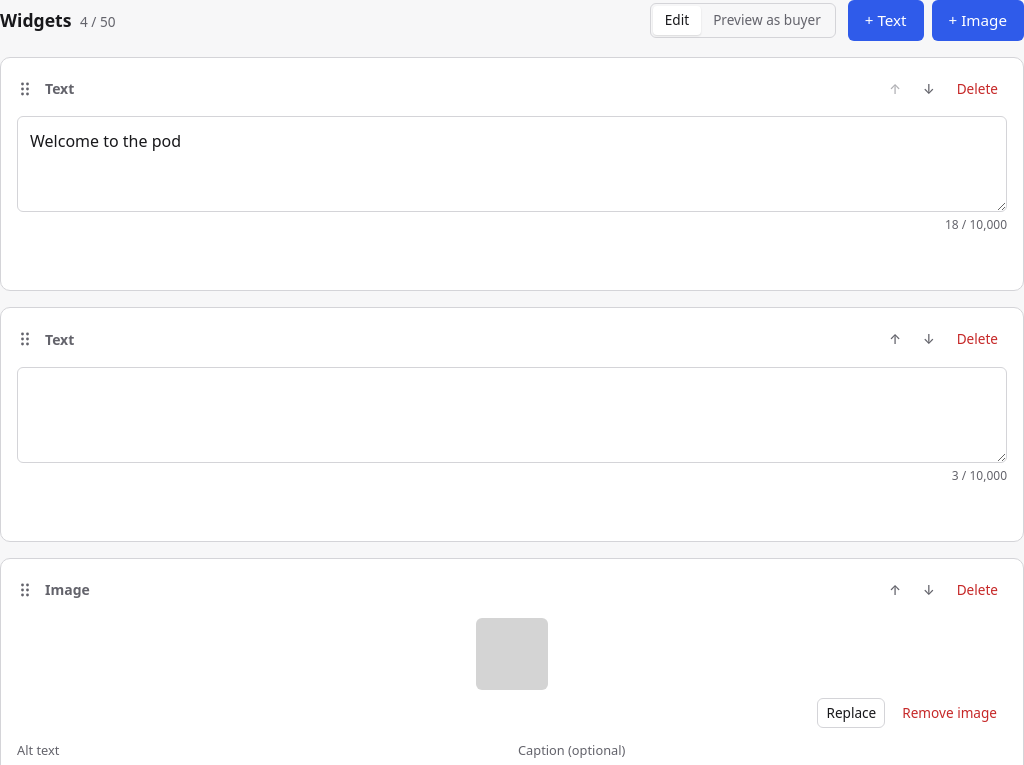
Scenario: WidgetBoard › buyer preview › shows text and images read-only, without controls, skipping empty widgets
The image size is (1024, 765).
Click the button "Preview as buyer": (767, 20) [701,6,833,35]
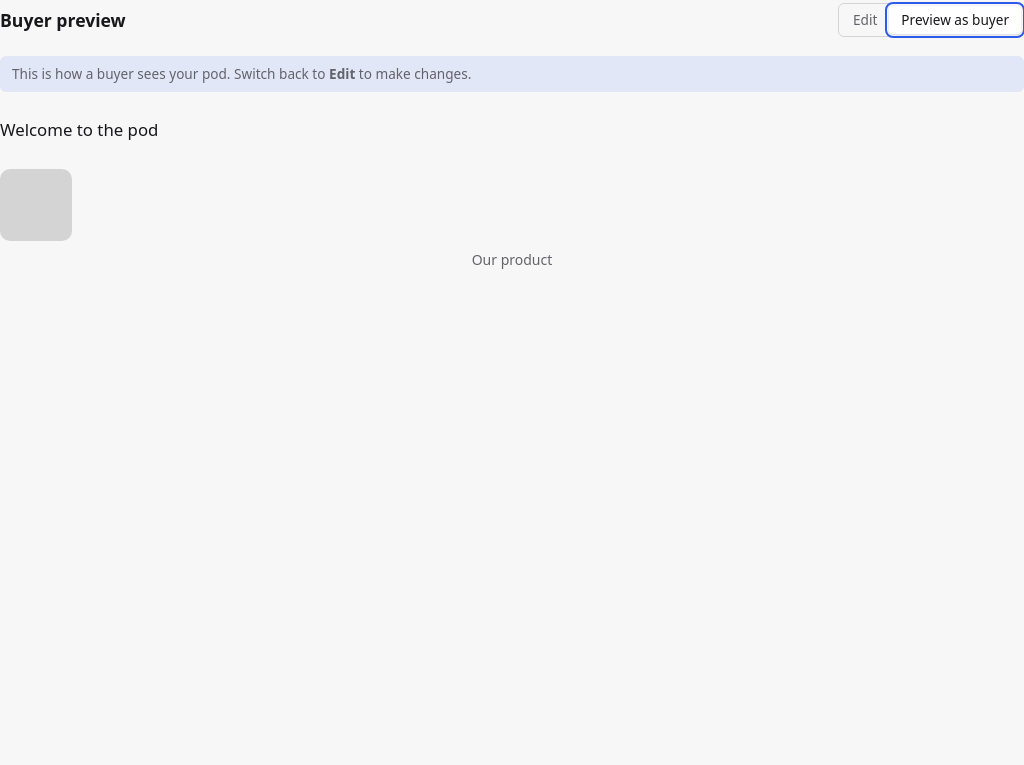
Expected: no buttons "Widget text" are shown
Expected: the button "+ Text" is gone
Expected: the text "Welcome to the pod" is shown, [0,118,158,141]
